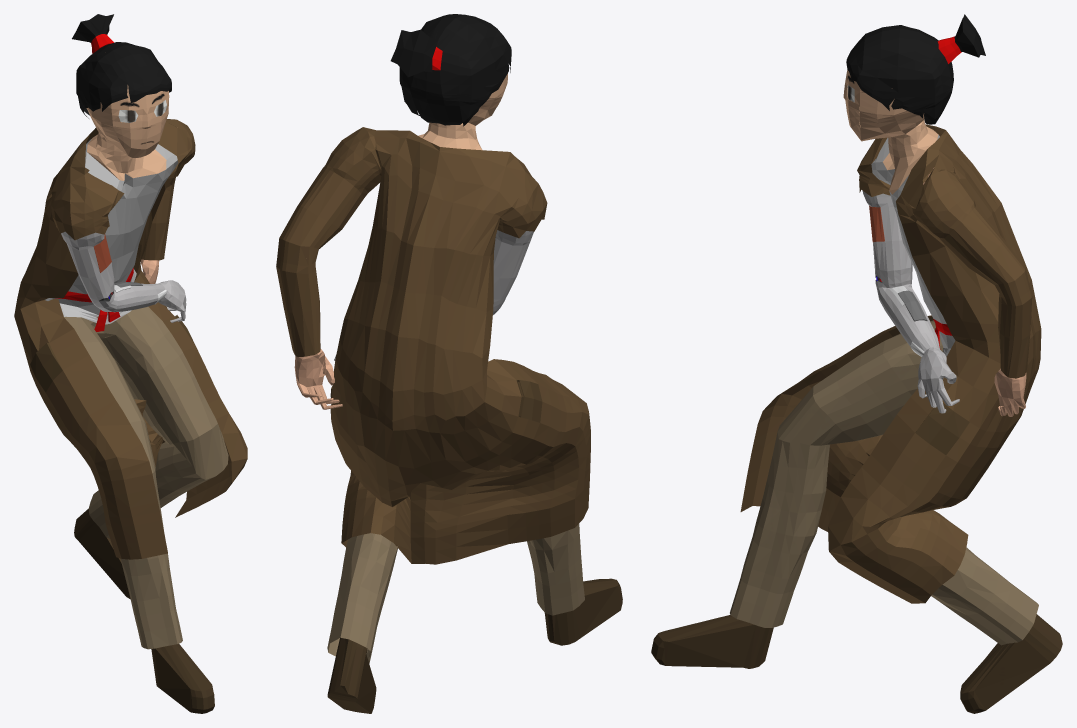
File: One_DB_000008.obj
3 renders of one model, left to right at view 1: azimuth 30°, elevation 25°; view 2: azimuth 150°, elevation 25°; view 3: azimuth 270°, elevation 25°, orthographic. The views are drawn at different scales.
Visible parts, largest first — view 1: Hair_Cube.004; view 2: Hair_Cube.004; view 3: Hair_Cube.004.
Part boxes in pixels (x1,y1,x2,y2): Hair_Cube.004: (14, 14, 247, 713); Hair_Cube.004: (276, 14, 622, 713); Hair_Cube.004: (651, 14, 1062, 713).
Size of the model in its own units: 1.09 by 3.47 by 1.94.
